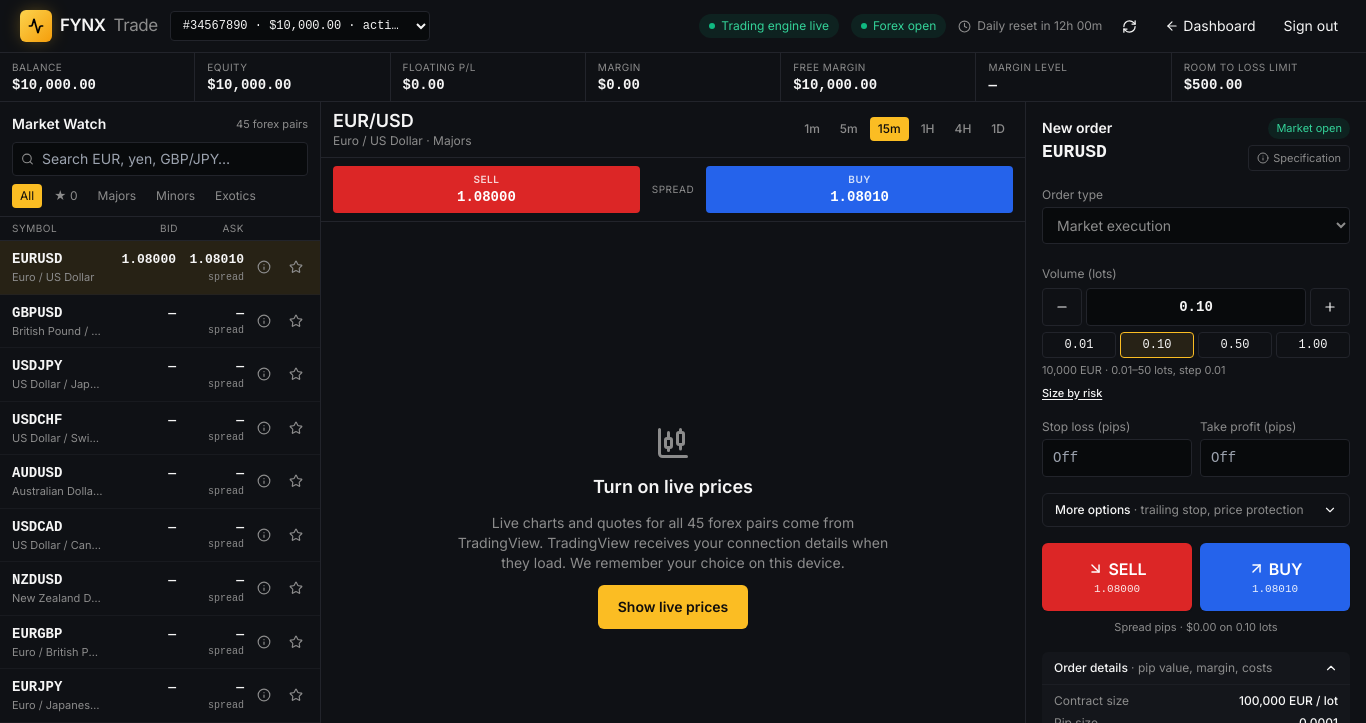
Scenario: news windows: terminal › no calendar connected: no note, and the specification says so honestly
Expected: the button with test id "buy-button" shows "1.08010", top-left (1200, 542), bottom-right (1350, 611)
Click the button with test id "spec-button" at (1299, 158), box top-left (1248, 144), bottom-right (1350, 171)
(page scrolled)
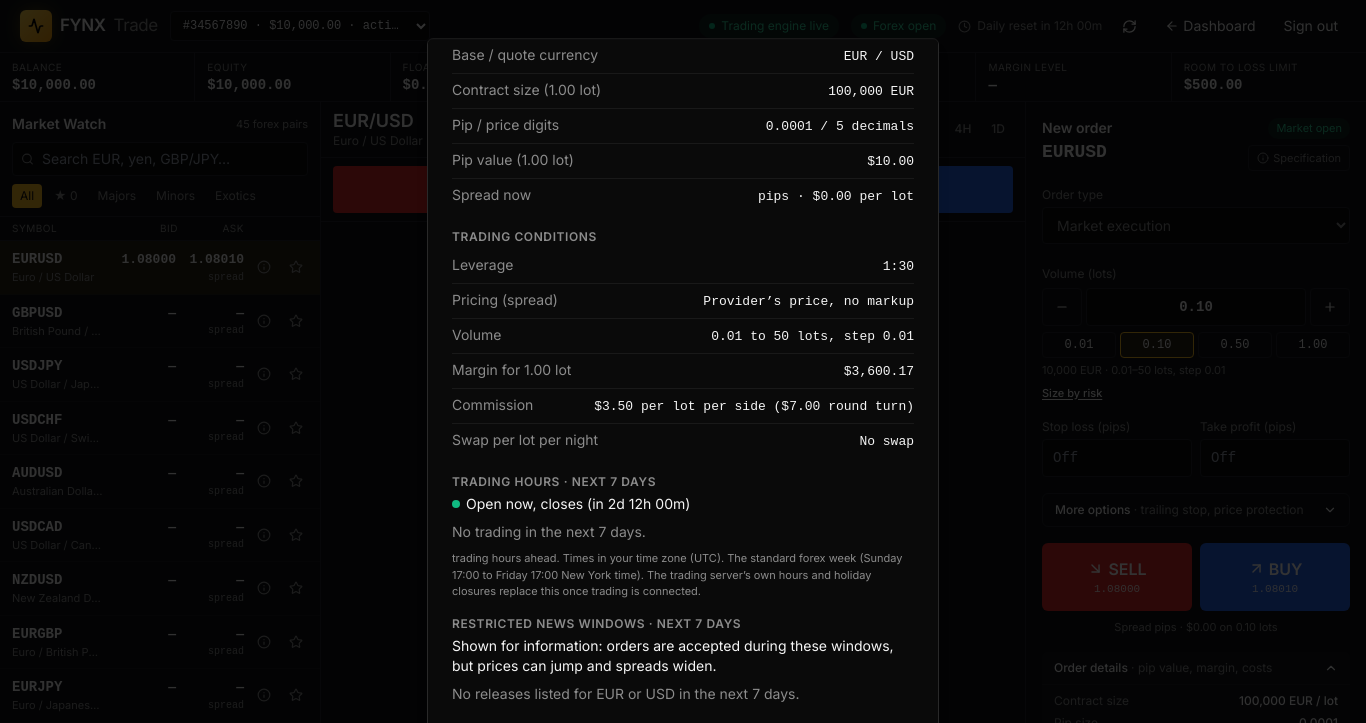
Now the text with test id "spec-news-none" reads "No releases listed for EUR or USD in the next 7 days.", box top-left (452, 685), bottom-right (800, 702)
